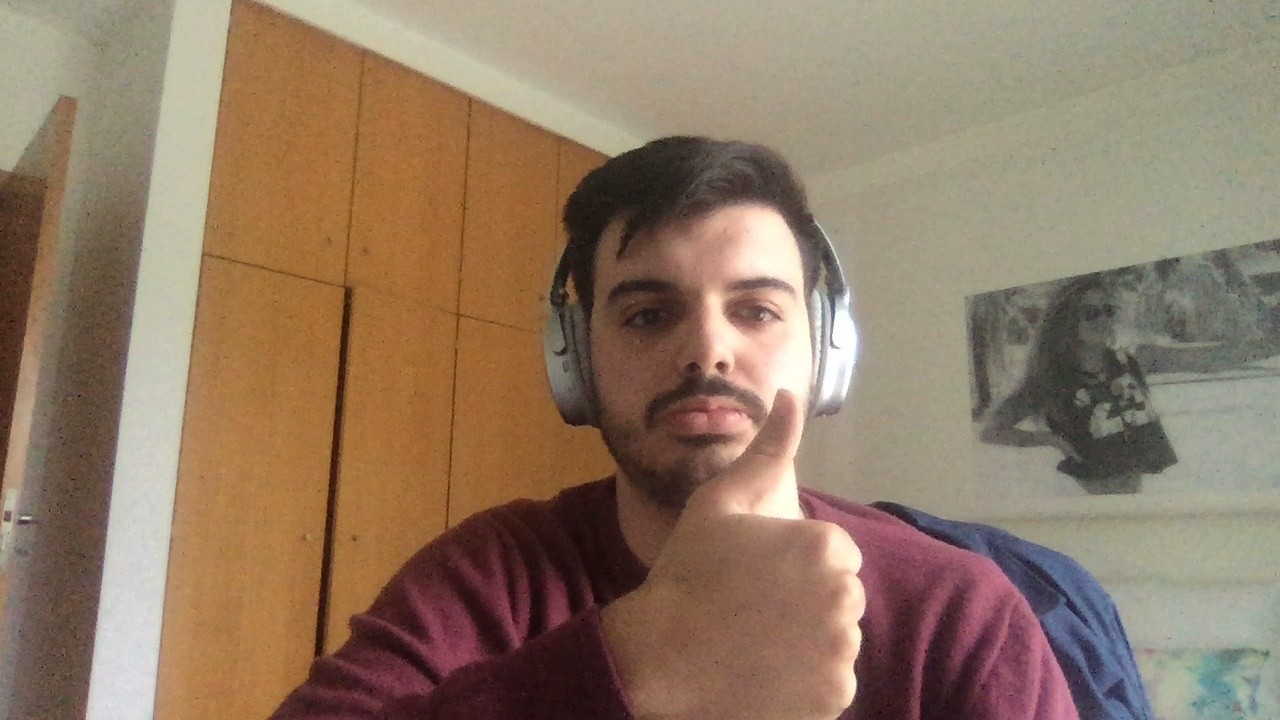ThumbsUp: (642, 388, 866, 720)
